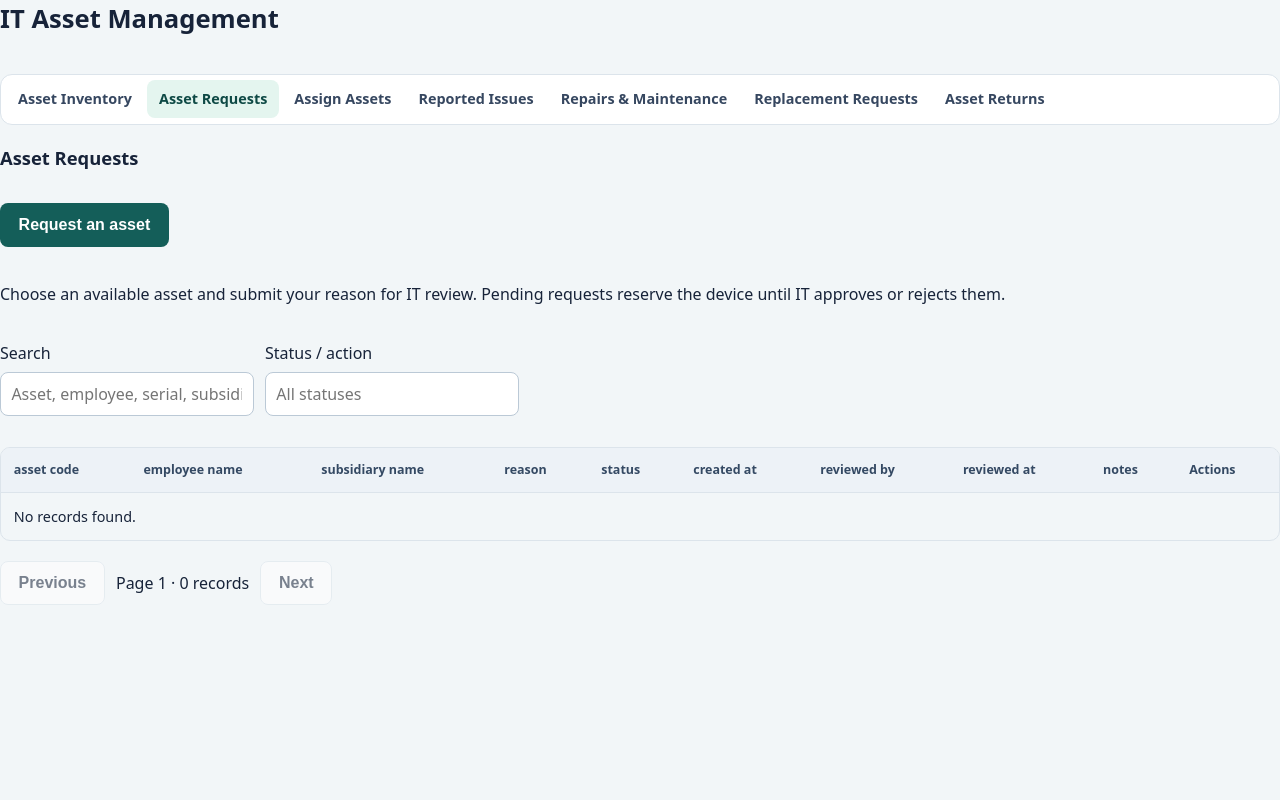
Test case: employee asset and repair requests › keeps the form and explains when the chosen device is no longer available
The image size is (1280, 800).
Click the button "Request an asset": point(84, 225) [0,203,169,247]
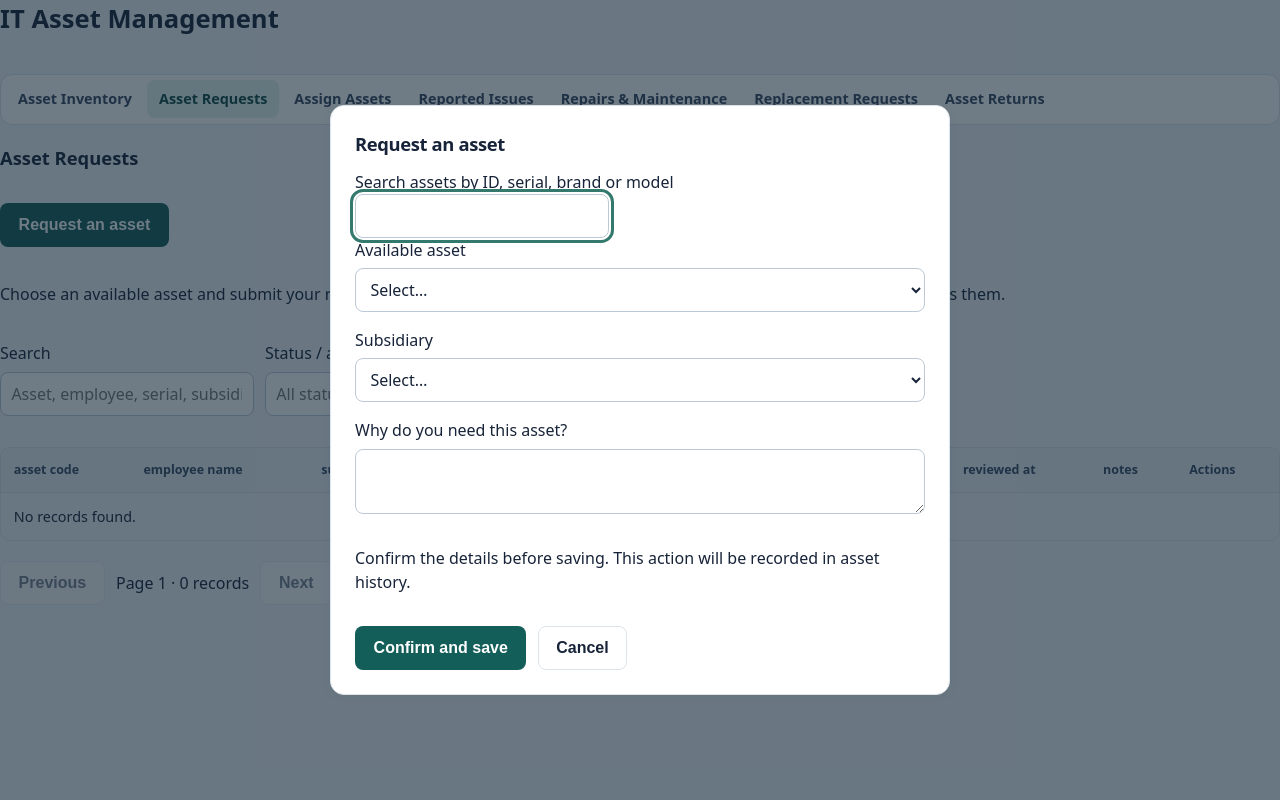
Select "ADESA-PHN-0042 — Available Brand Available model" in the dropdown labelled "Available asset": point(640, 290) [355,268,925,312]
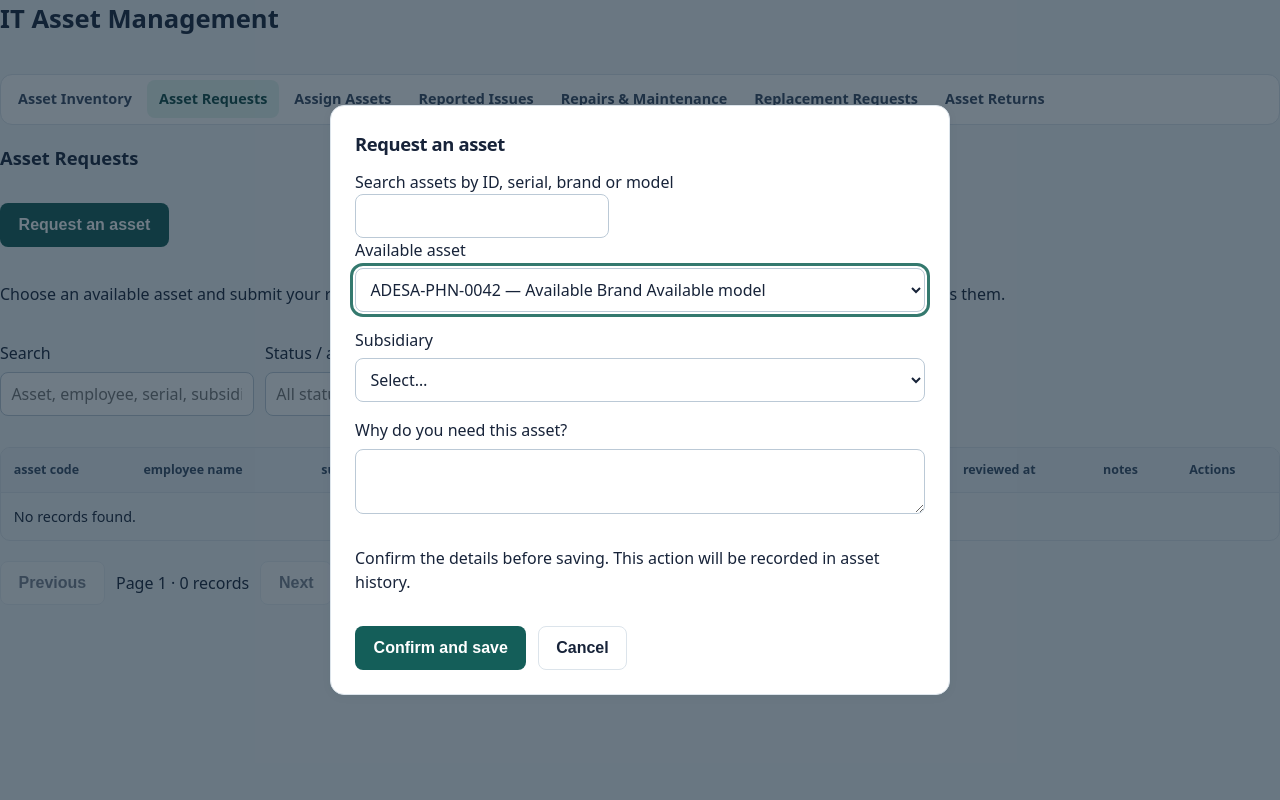
Select "Local Subsidiary" in the dropdown labelled "Subsidiary": point(640, 380) [355,358,925,402]
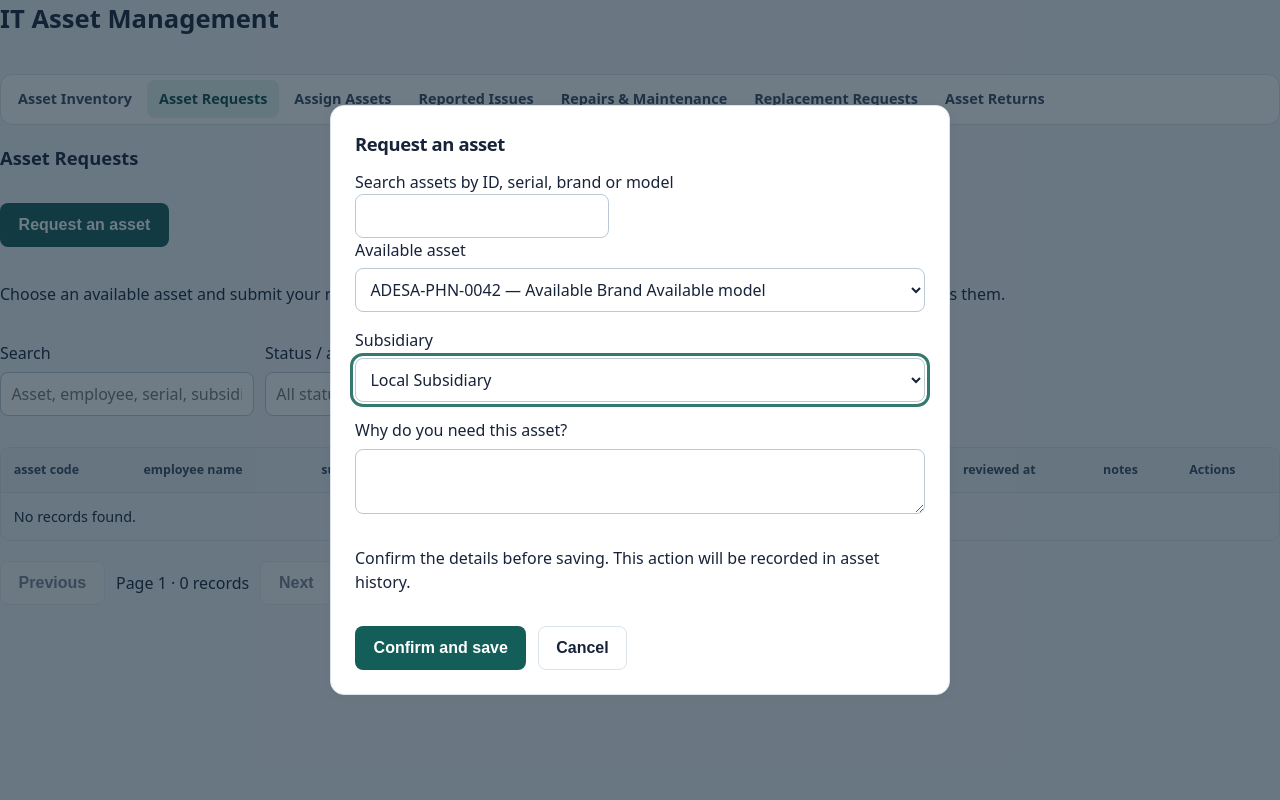
In the text box labelled "Why do you need this asset?": point(640, 481) [355,449,925,514], type "Work device"
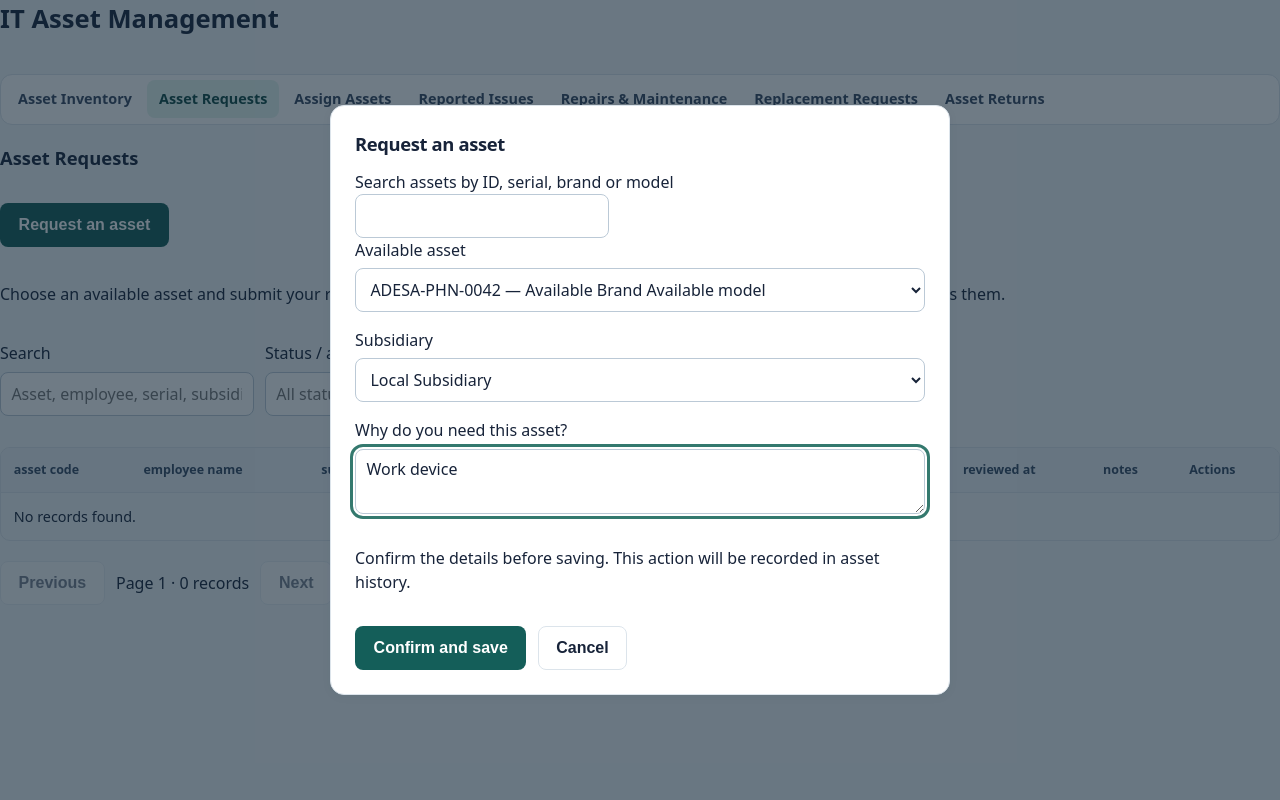
Click the button "Confirm and save": point(441, 648) [355,626,526,670]
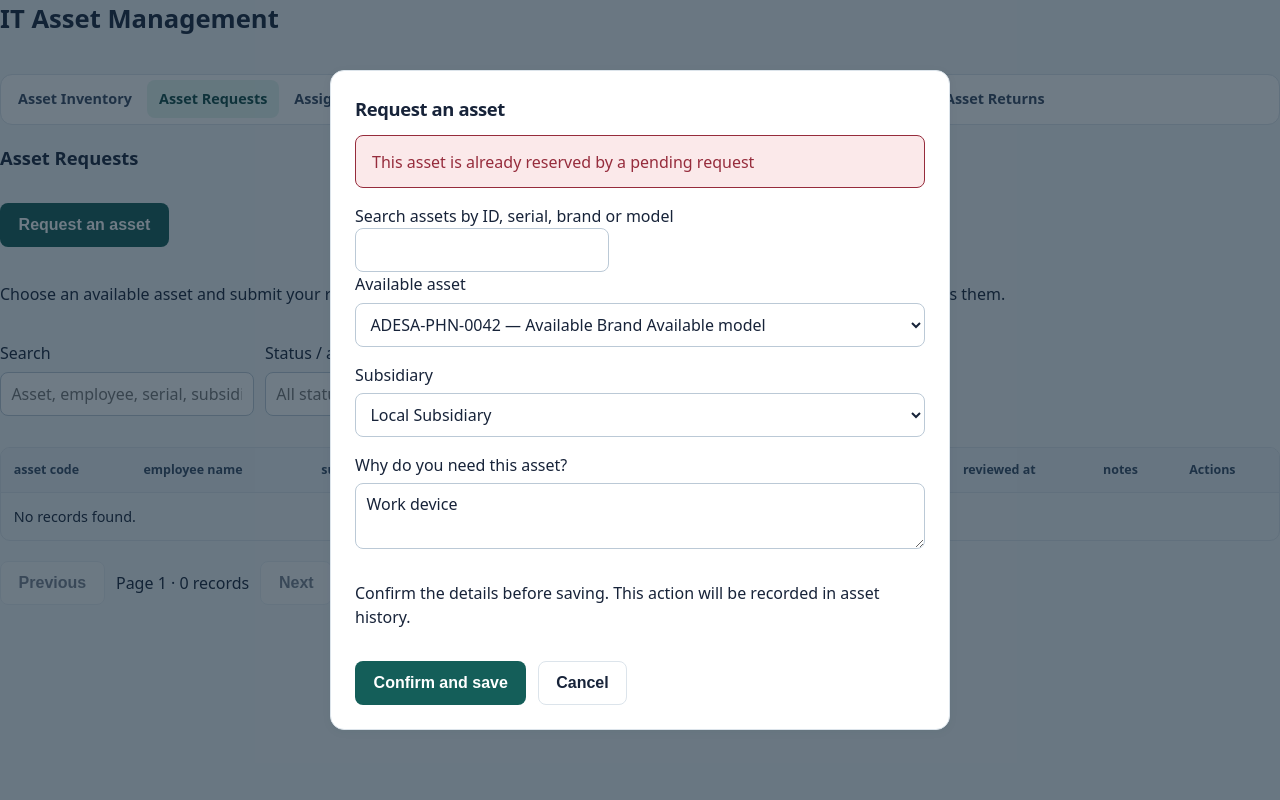
Expected: the dialog is shown, [330,70,950,730]
Expected: the message shows "already reserved", [372,150,754,172]
